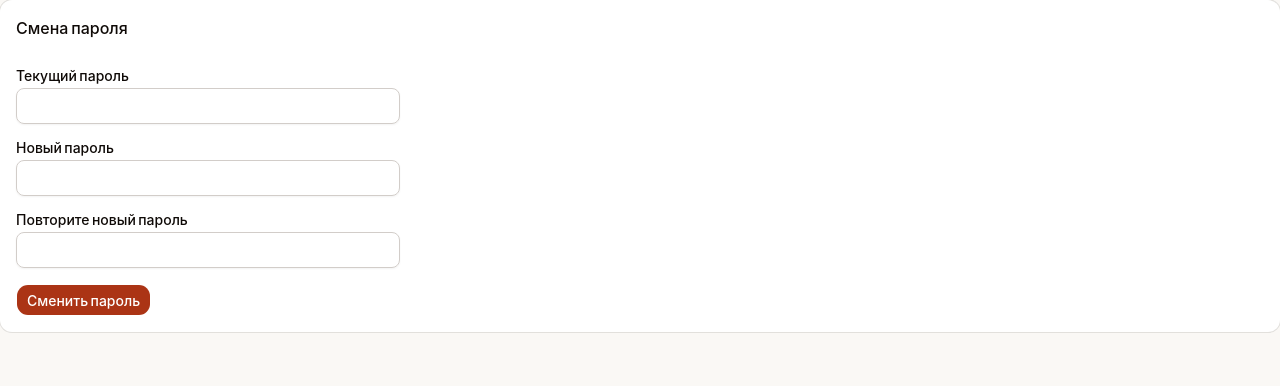
Test: ChangePasswordSection › rejects a new password shorter than 8 chars
Step 1. Type "oldpw123" into the password field labelled "Текущий пароль" → (208, 106), box [16,88,400,124]
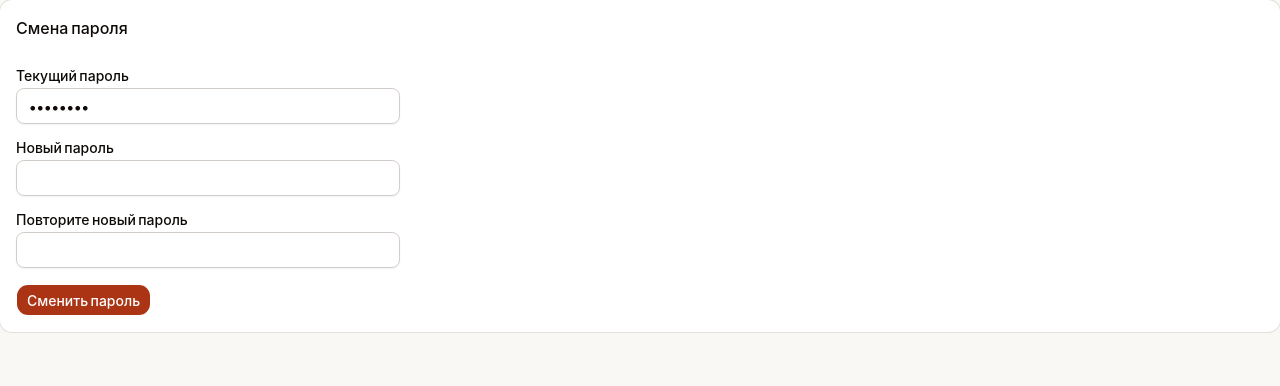
Step 2. Type "short" into the password field labelled "Новый пароль" → (208, 178), box [16,160,400,196]
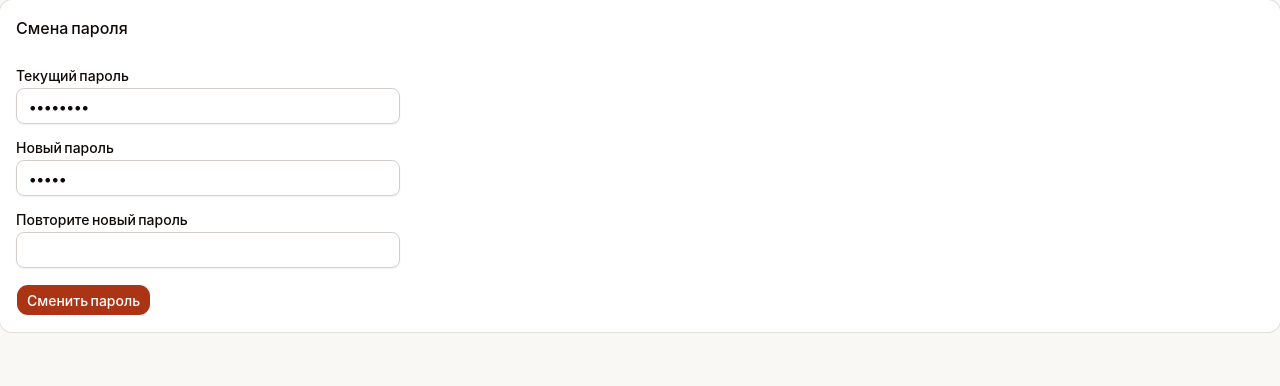
Step 3. Type "short" into the password field labelled "Повторите новый пароль" → (208, 250), box [16,232,400,268]
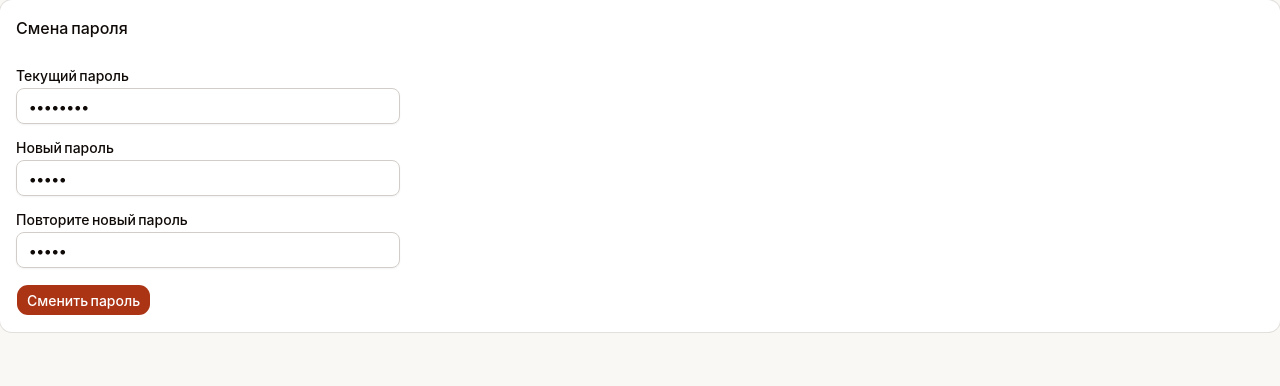
Step 4. Click the button "Сменить пароль" → (84, 300), box [16,284,151,316]
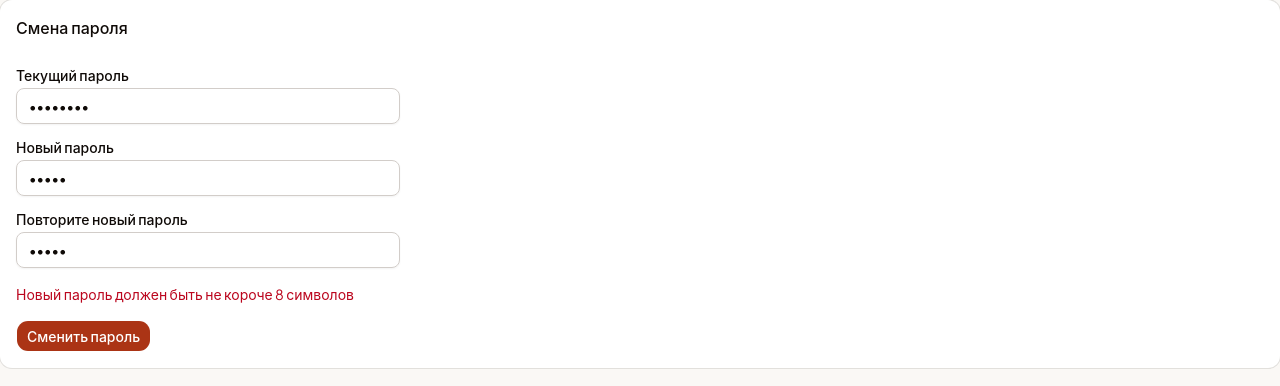
Result: the text "Новый пароль должен быть не короче 8 символов" is shown at [16,284,400,304]
